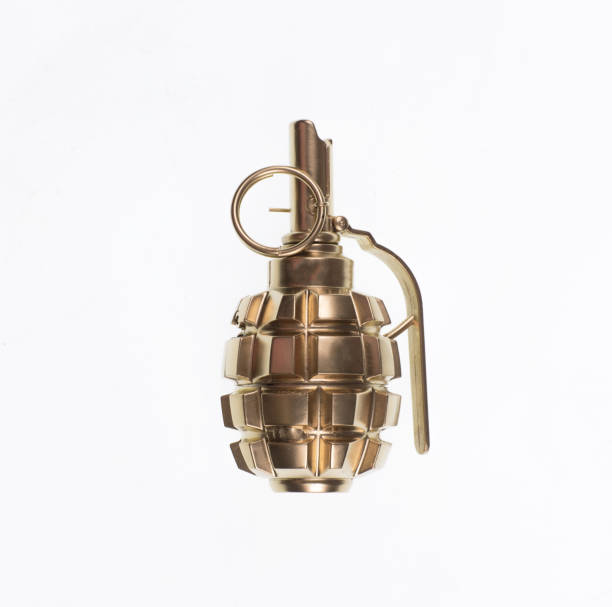e1: (214, 119, 428, 493)
